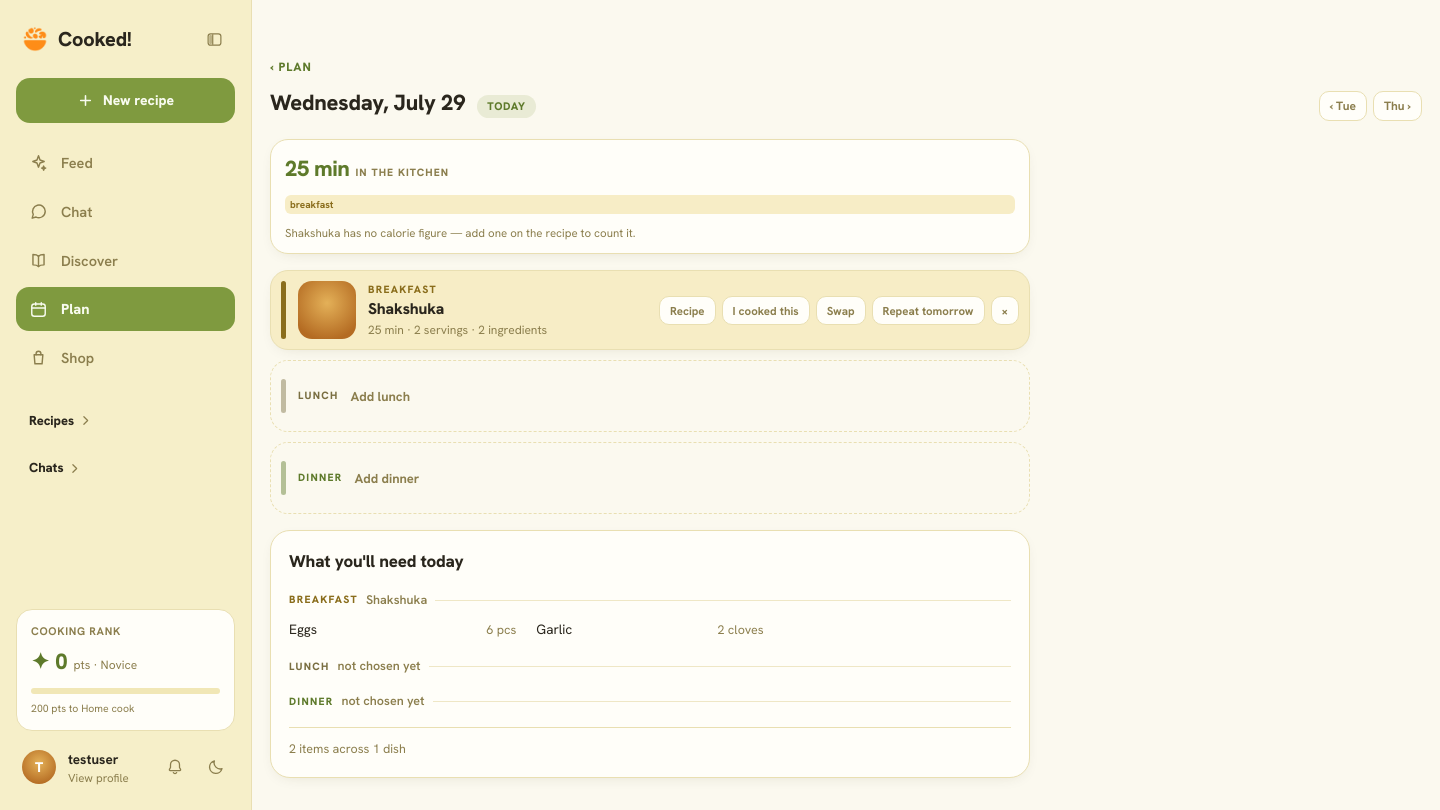
Scenario: the recipe picker › says what a dish would add to the day, and when it reuses something
Click the button with aria-label "add a recipe for dinner".
click(320, 477)  # box [270, 442, 1030, 514]
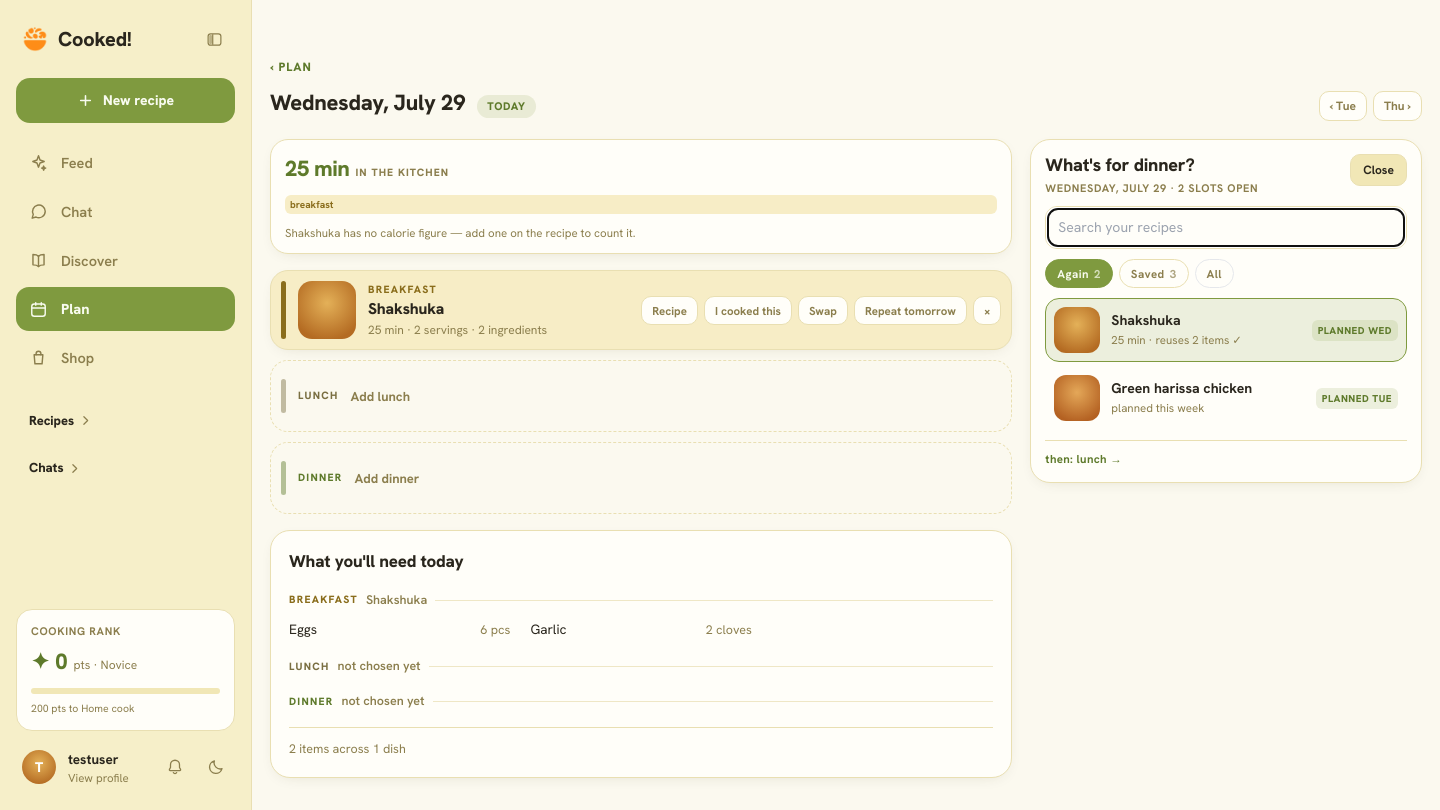
Now the heading "What's for dinner?" is shown, box [1045, 153, 1194, 176]
Click the tab "Saved3".
click(1154, 274)  # box [1119, 259, 1188, 288]
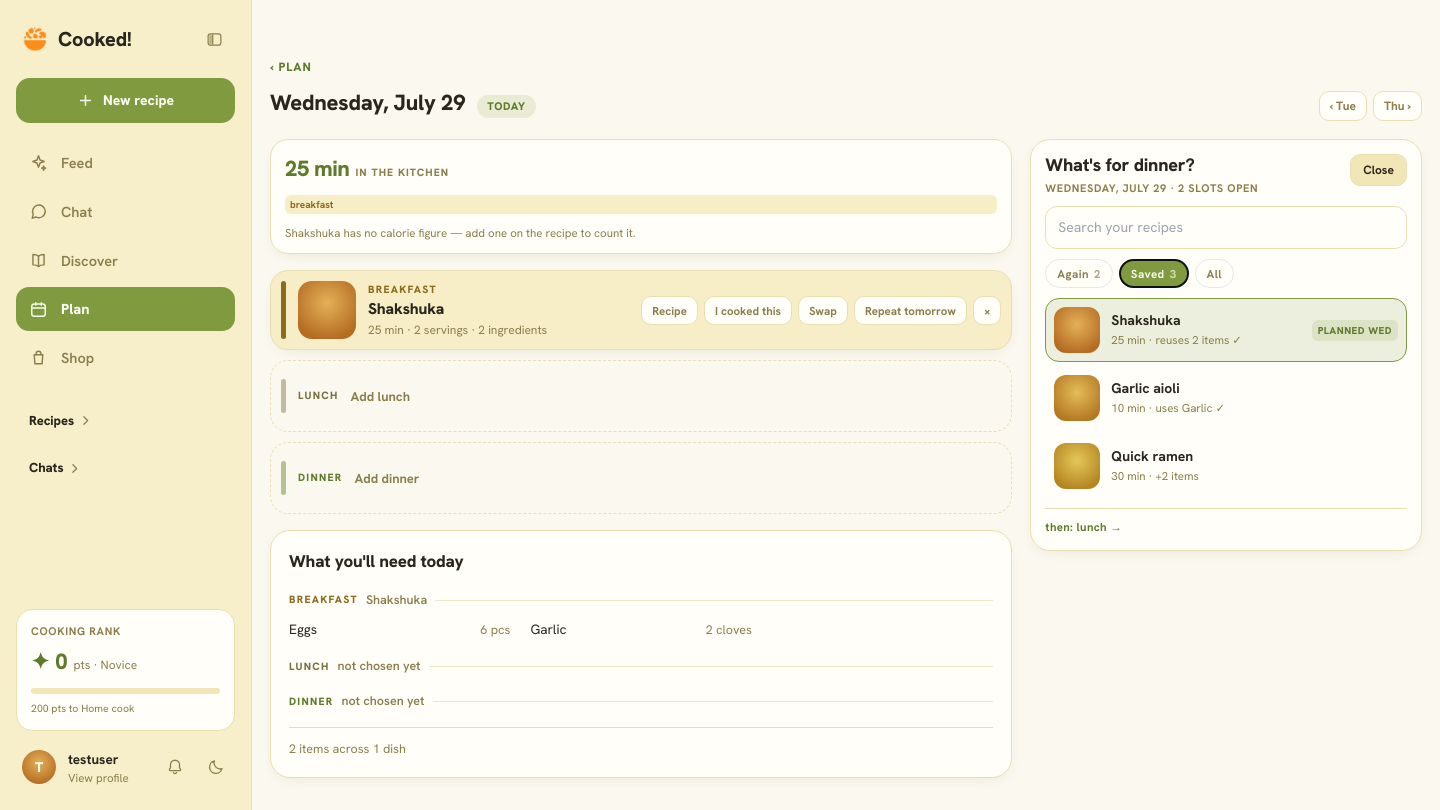
Now the text "10 min · uses Garlic ✓" is shown, box [1111, 400, 1225, 416]
Now the text "30 min · +2 items" is shown, box [1111, 468, 1199, 484]
